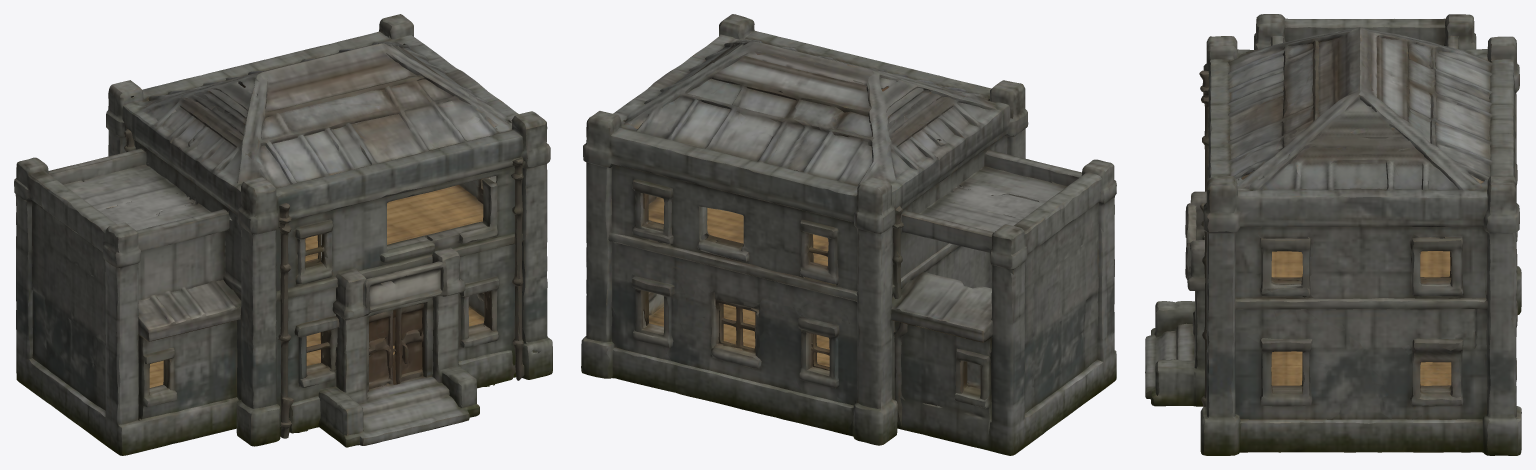
The model's file is office-exterior-optimized.glb.
3 views of the same model, side by side, from view 1: azimuth 30°, elevation 25°; view 2: azimuth 150°, elevation 25°; view 3: azimuth 270°, elevation 25° (orthographic). The views are drawn at different scales.
Visible parts, largest first — view 1: world; view 2: world; view 3: world.
Boxes of the visible parts, bbox=[...] form: world: bbox=[14, 14, 552, 455]; world: bbox=[581, 14, 1116, 455]; world: bbox=[1145, 14, 1521, 455].
Size of the model in its own units: 1 by 0.7056 by 0.7512.
1 material, 1 textured.
